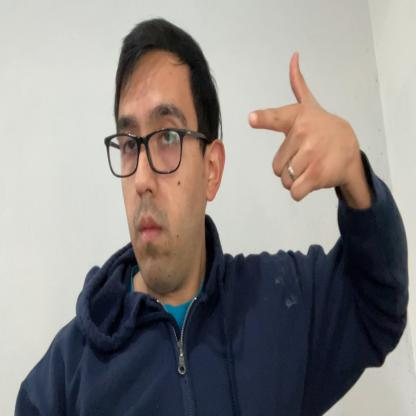G: (248, 51, 350, 201)
